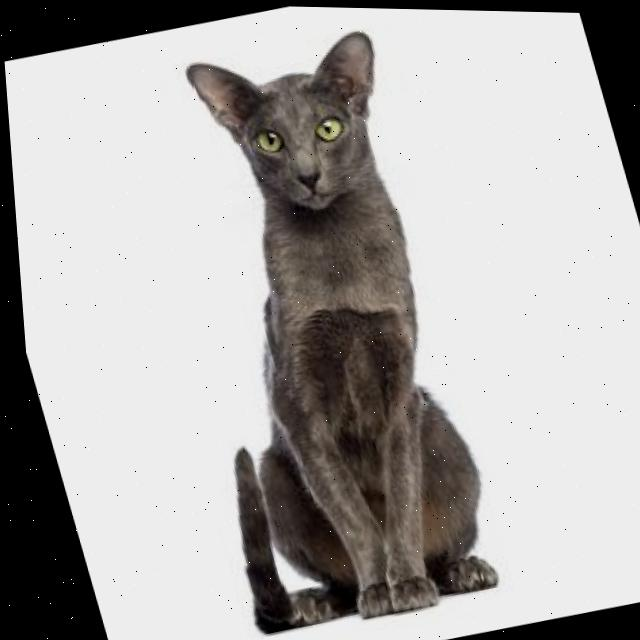Oriental: (90, 16, 526, 640)
